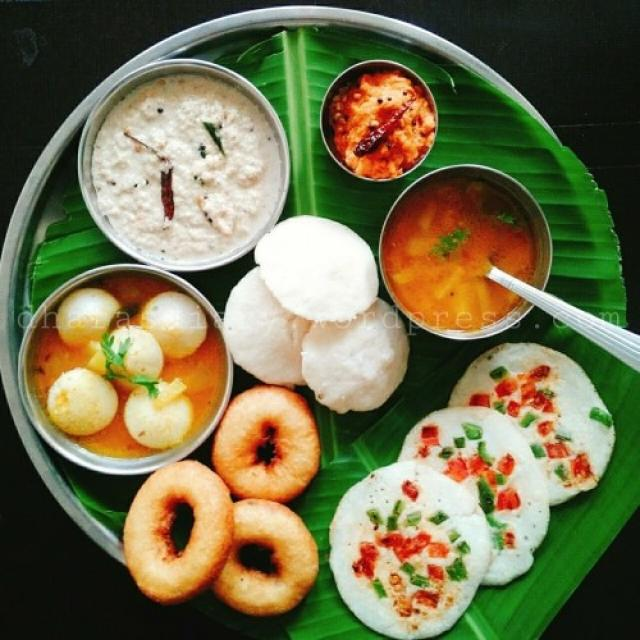IDLI: (222, 211, 405, 413)
MEDU VADA: (120, 459, 231, 600), (209, 383, 325, 500), (217, 508, 316, 622)
